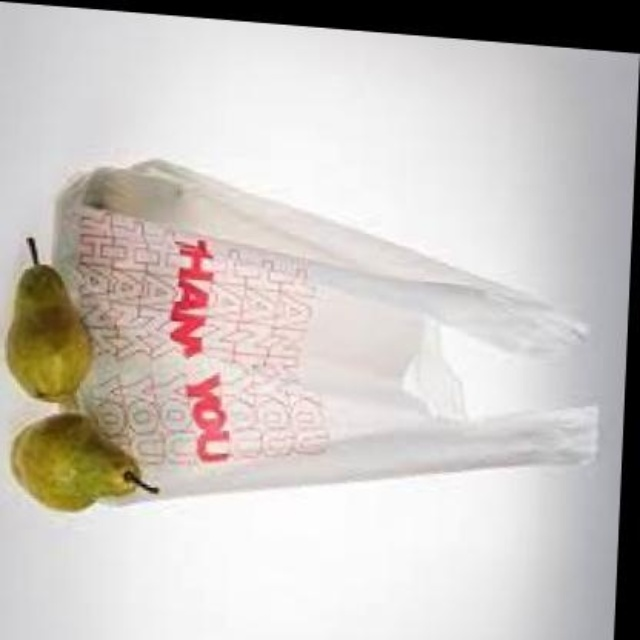trash: (55, 160, 597, 494)
